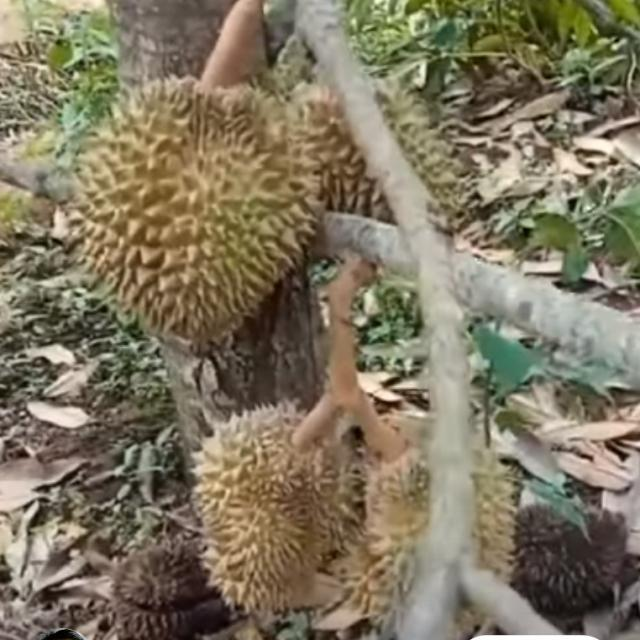defective: (502, 501, 627, 621), (106, 528, 235, 640)
mature: (73, 74, 315, 355), (189, 400, 333, 614)
